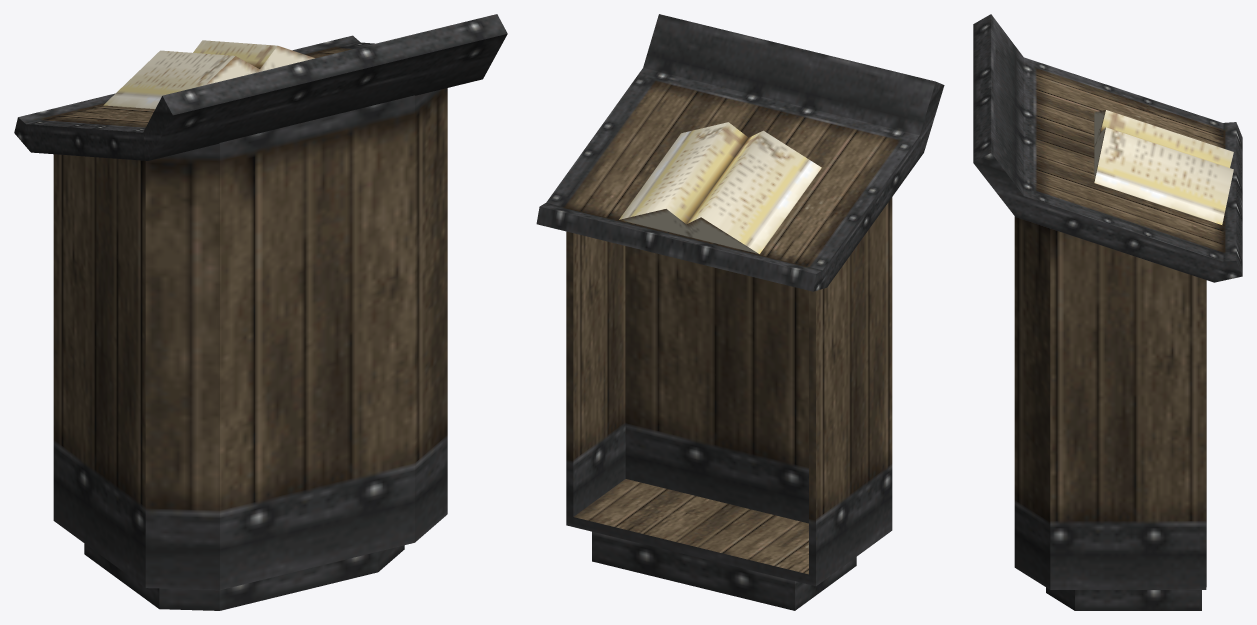
3 renders of one model, left to right at view 1: azimuth 30°, elevation 25°; view 2: azimuth 150°, elevation 25°; view 3: azimuth 270°, elevation 25°, orthographic. The views are drawn at different scales.
Parts seen in each view (by area): view 1: a95; view 2: a95; view 3: a95.
Part boxes in pixels (x1,y1,x2,y2): a95: [14, 14, 507, 610]; a95: [536, 14, 944, 610]; a95: [973, 14, 1242, 610].
Bounding box in the file's own units: 235 × 376 × 193.
